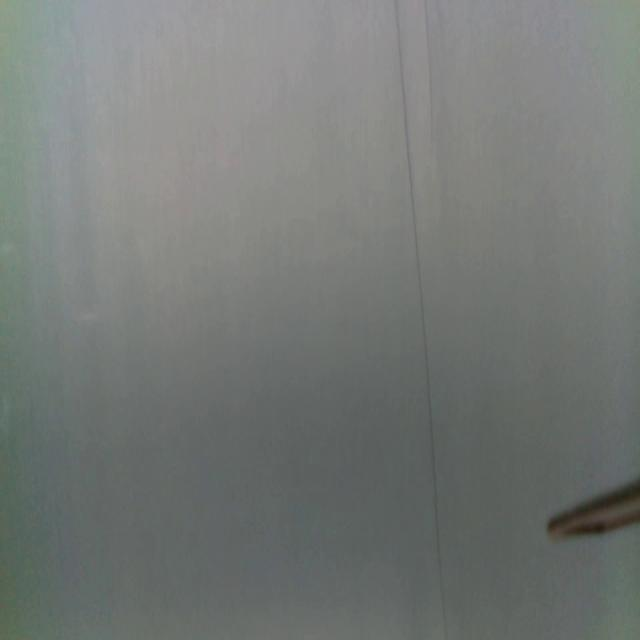crease: (392, 0, 448, 636), (420, 0, 434, 139)
